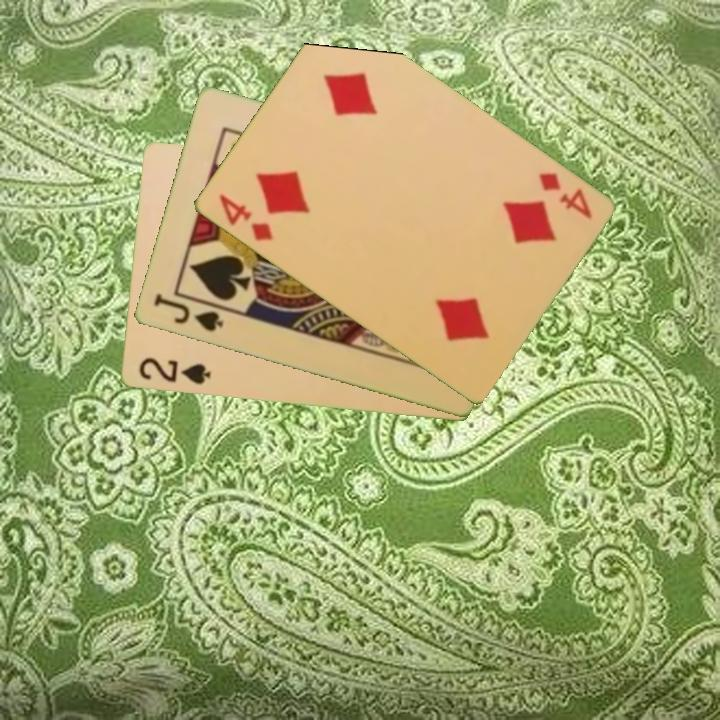2s: (135, 354, 213, 388)
4d: (214, 190, 276, 245), (534, 169, 595, 222)
Js: (149, 290, 226, 335)
